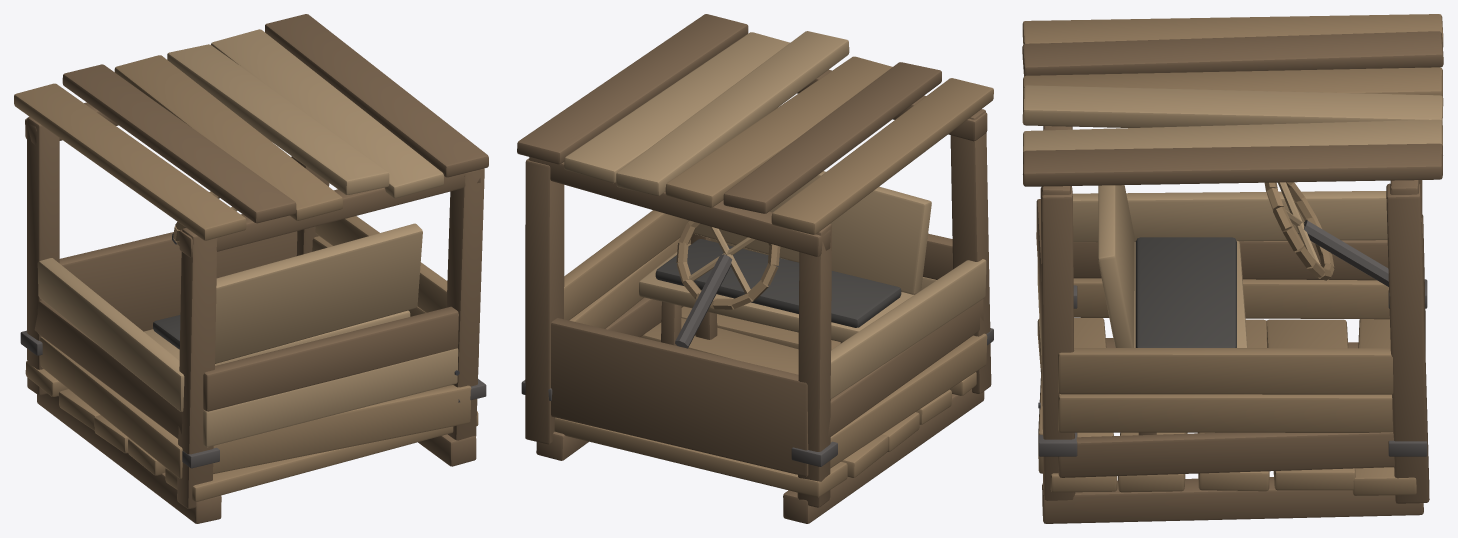
The model's file is wood_cab.glb.
3 views of the same model, side by side, from view 1: azimuth 30°, elevation 25°; view 2: azimuth 150°, elevation 25°; view 3: azimuth 270°, elevation 25° (orthographic). The views are drawn at different scales.
Parts seen in each view (by area): view 1: Part; view 2: Part; view 3: Part.
Part boxes in pixels (bbox=[...]): Part: bbox=[14, 14, 488, 523]; Part: bbox=[517, 14, 993, 523]; Part: bbox=[1022, 14, 1443, 523].
Size of the model in its own units: 1.02 by 1.03 by 1.08.
